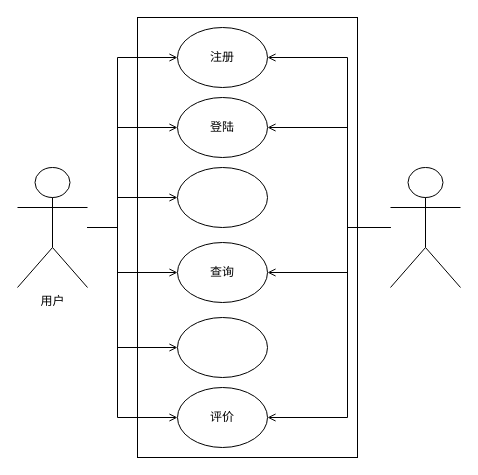
The diagram is 478 pixels wide and 475 high, and some of its shapes have lost their labels. The shapes that lost their labels are listed below. From the top down, each one's centre as x and y in pixels, then its label:
At (222,197): "邮寄".
At (425,227): "管理员".
At (222,347): "投诉".
